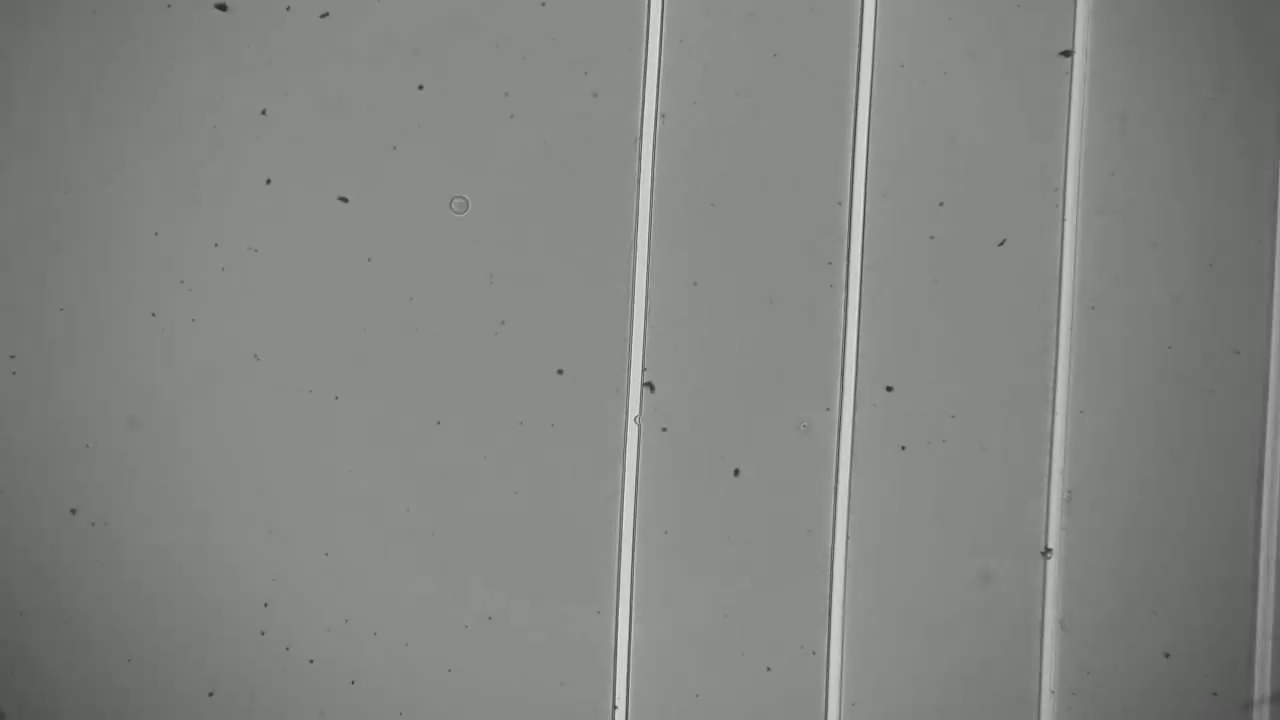edge_bite: (621, 411, 644, 432)
stains_enbedded: (1032, 539, 1070, 570)
